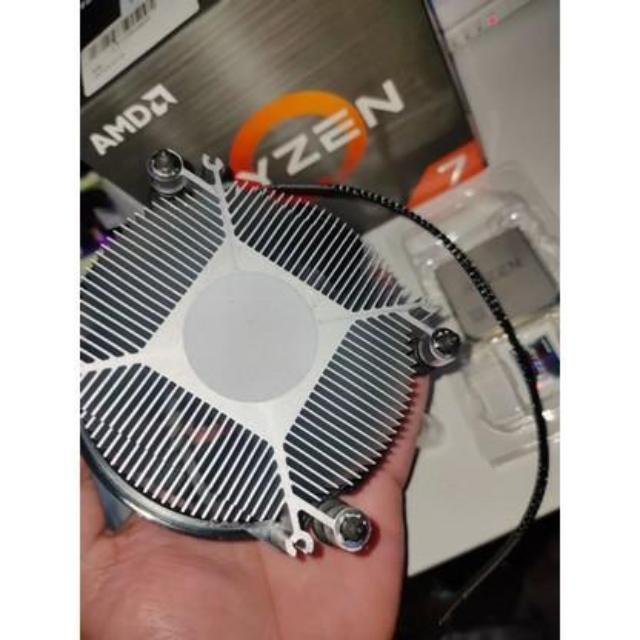CPU_Fan: (74, 164, 463, 562)
